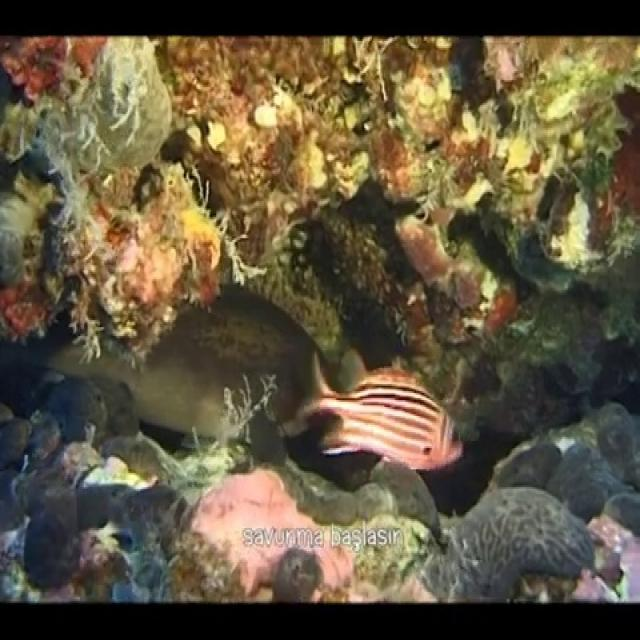Asker Baligi: (299, 370, 465, 471)
